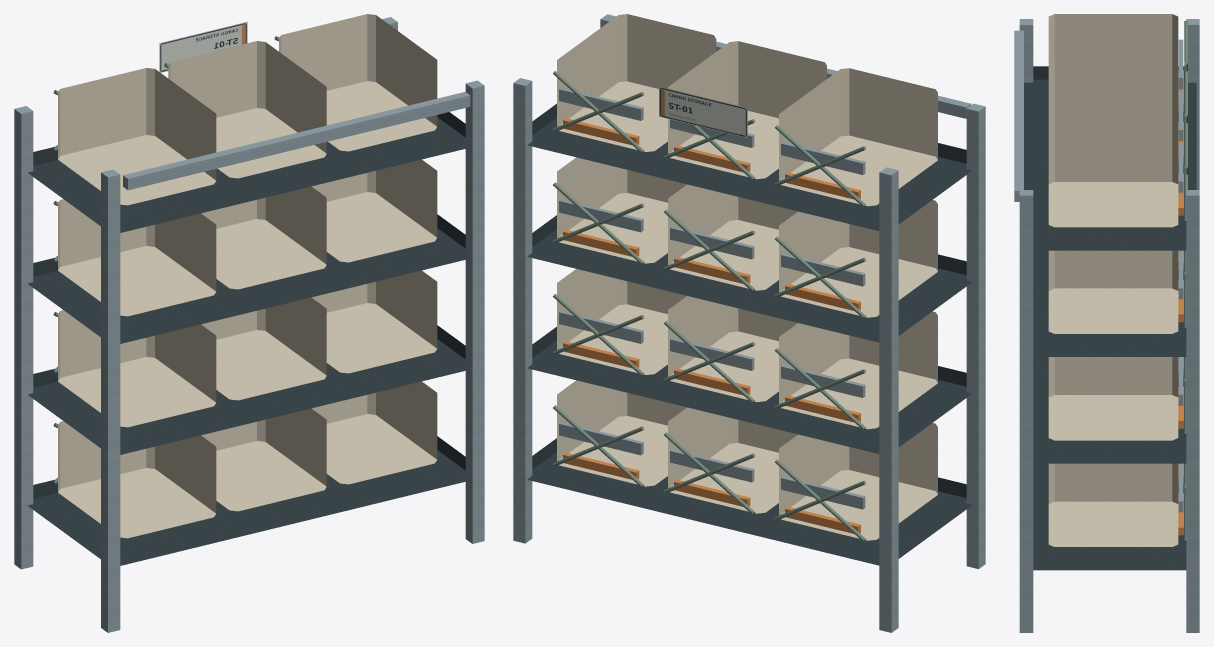
Rendered from cargo_rack.glb.
3 views of the same model, side by side, from view 1: azimuth 30°, elevation 25°; view 2: azimuth 150°, elevation 25°; view 3: azimuth 270°, elevation 25° (orthographic). The views are drawn at different scales.
Visible parts, largest first — view 1: Removable_Cargo_Bins__cream, Rack_Shelves__graphite, Rack_Frame__alloy, Back_Brace__alloy, static__label_ST-01; view 2: Removable_Cargo_Bins__cream, Rack_Shelves__graphite, Rack_Frame__alloy, Bin_Latches__alloy, Tie_Down_Straps__fabric, Bin_Markers__amber, static__label_ST-01; view 3: Removable_Cargo_Bins__cream, Rack_Shelves__graphite, Rack_Frame__alloy, Bin_Latches__alloy, Back_Brace__alloy, Tie_Down_Straps__fabric, Bin_Markers__amber.
Part boxes in pixels (bbox=[...]): Removable_Cargo_Bins__cream: bbox=[58, 14, 437, 538]; Rack_Shelves__graphite: bbox=[27, 112, 470, 565]; Rack_Frame__alloy: bbox=[14, 17, 484, 632]; Back_Brace__alloy: bbox=[123, 92, 470, 190]; static__label_ST-01: bbox=[159, 21, 247, 72]; Removable_Cargo_Bins__cream: bbox=[557, 14, 937, 540]; Rack_Shelves__graphite: bbox=[527, 104, 972, 565]; Rack_Frame__alloy: bbox=[513, 14, 985, 632]; Bin_Latches__alloy: bbox=[559, 87, 865, 509]; Tie_Down_Straps__fabric: bbox=[552, 71, 866, 541]; Bin_Markers__amber: bbox=[563, 118, 860, 533]; static__label_ST-01: bbox=[659, 86, 747, 137]; Removable_Cargo_Bins__cream: bbox=[1048, 14, 1178, 546]; Rack_Shelves__graphite: bbox=[1024, 66, 1196, 570]; Rack_Frame__alloy: bbox=[1019, 19, 1199, 632]; Bin_Latches__alloy: bbox=[1178, 39, 1183, 512]; Back_Brace__alloy: bbox=[1014, 30, 1023, 201]; Tie_Down_Straps__fabric: bbox=[1184, 20, 1187, 542]; Bin_Markers__amber: bbox=[1178, 70, 1183, 535].
Bounding box in the file's own units: 1.71 × 2.11 × 0.7575.
Materials: 6 (6 with a texture image).
